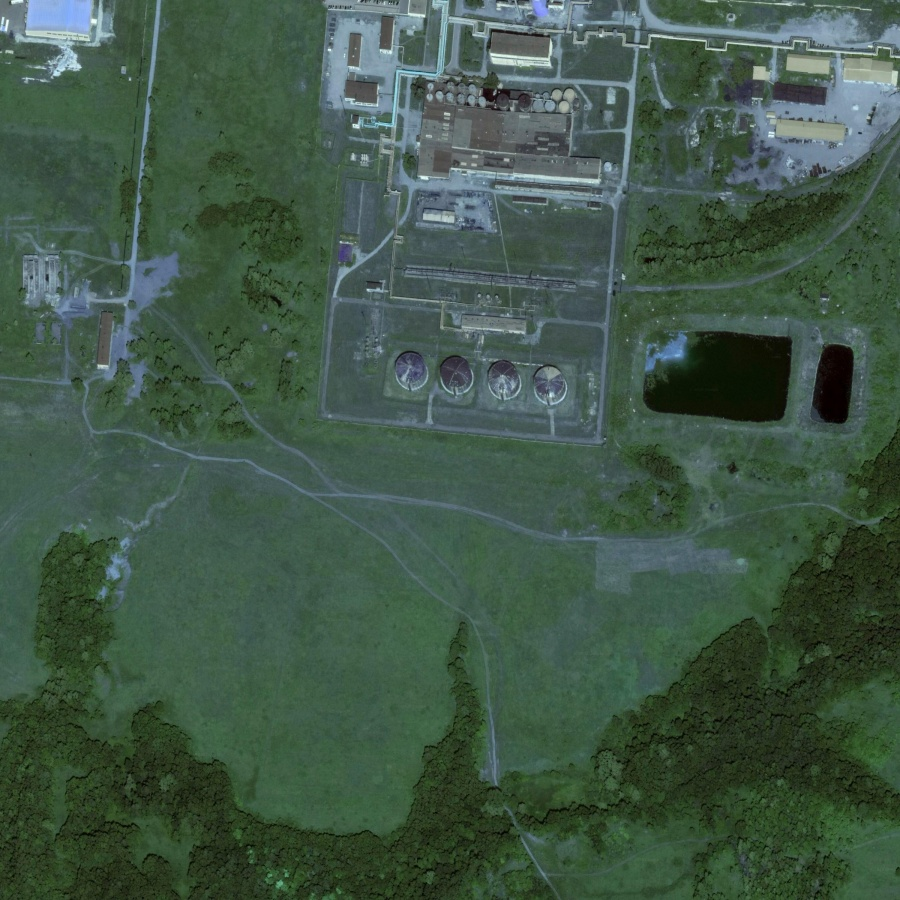PowerPlant: (388, 300, 598, 466), (633, 317, 867, 444)
